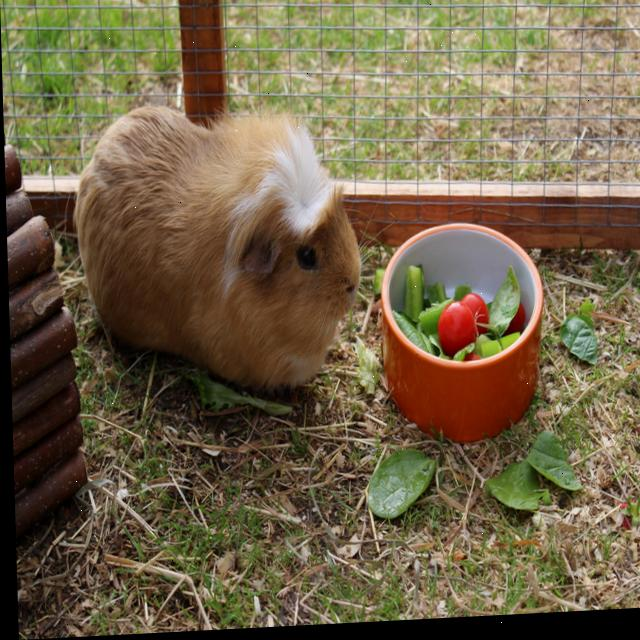guinea pig: (71, 98, 362, 402)
